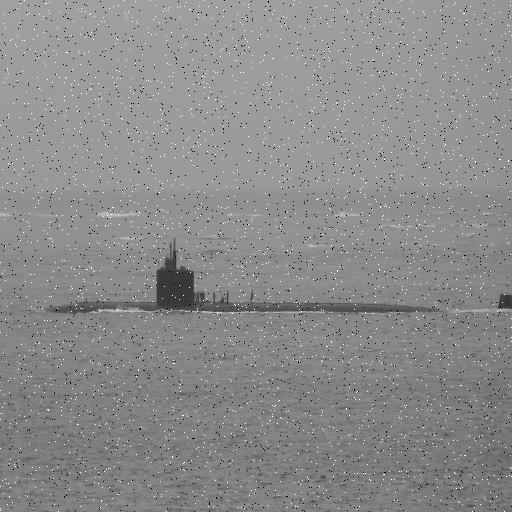submarine: (45, 237, 511, 316)
